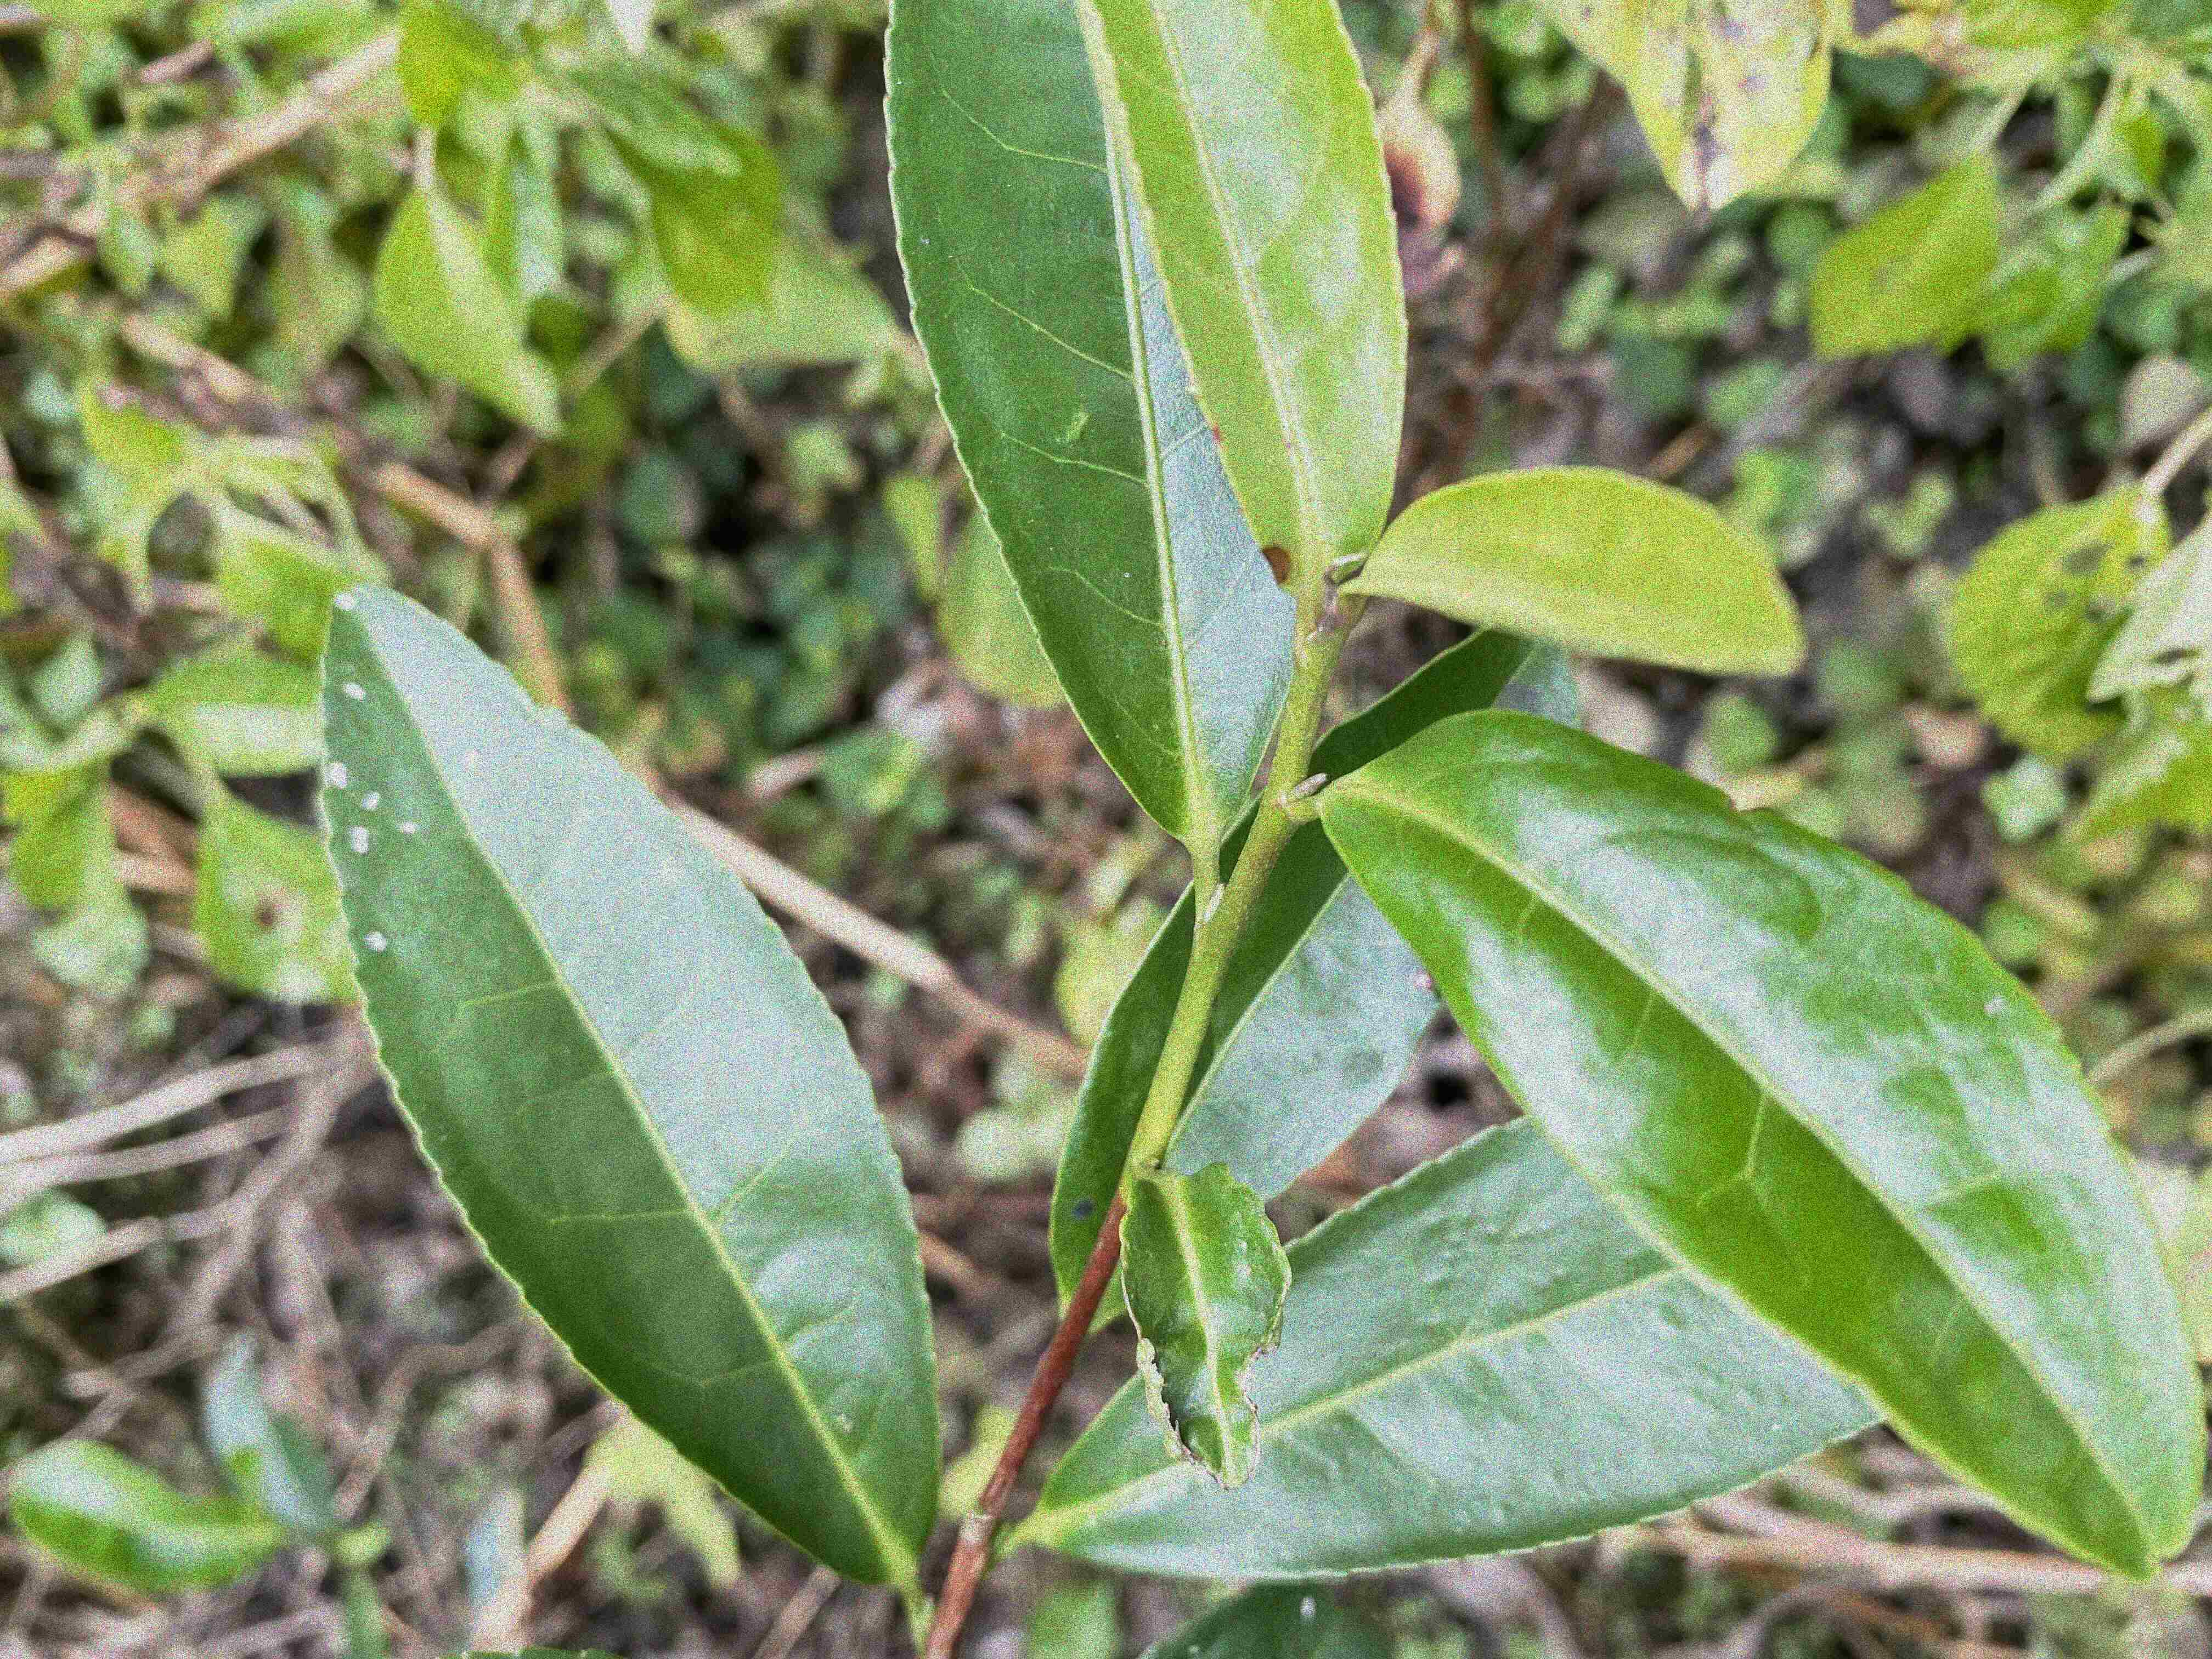chihuo_high: (1115, 1161, 1298, 1493)
healthy: (1317, 706, 2207, 1582)
tanju_low: (314, 584, 944, 1589), (1089, 3, 1413, 605)
